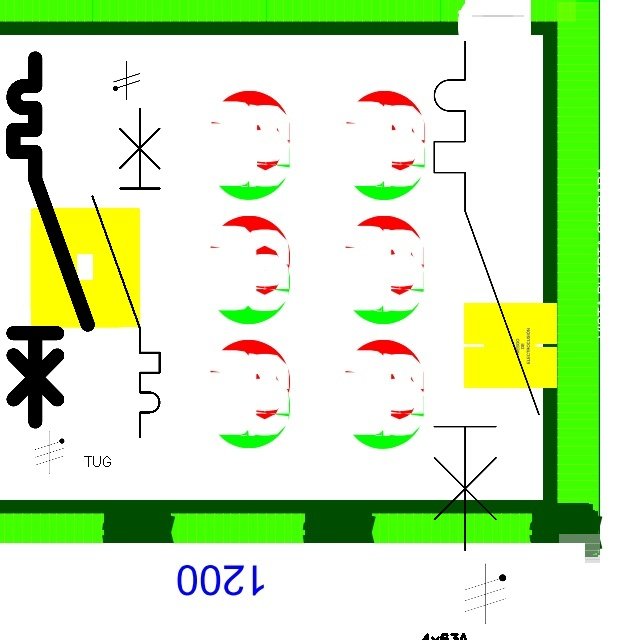interruptor_termomagnetico: (421, 28, 552, 563), (4, 49, 97, 430), (84, 100, 168, 446)
